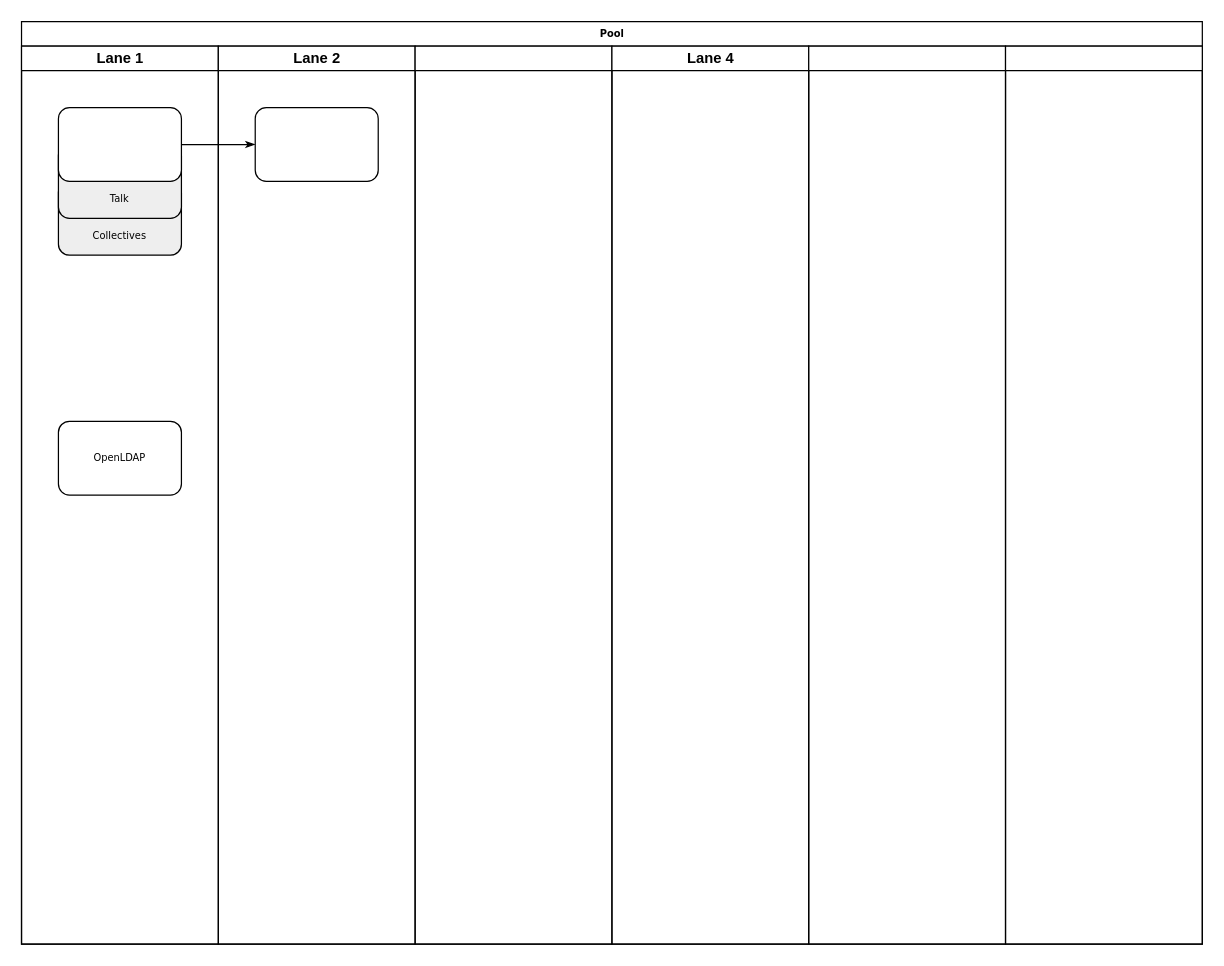
Image size: 1224x966. Some labels were removed from this diagram. The shapes that lost their labels are listed below. From the top down, each one's box as (x1, y1, x2, y2) in pixels, then its label:
(57, 106, 181, 181): NextCloud
(414, 45, 612, 944): Lane 3
(807, 45, 1006, 944): Lane 5
(1004, 45, 1202, 944): Lane 6
